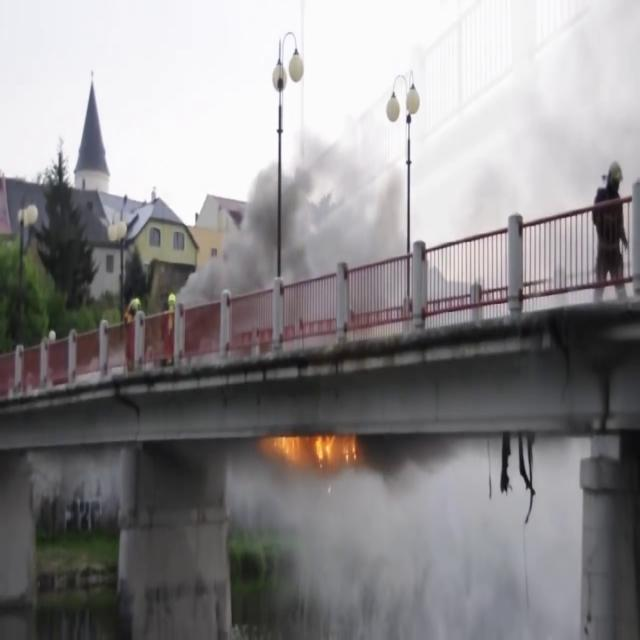Fire: (260, 420, 362, 472)
Smoke: (188, 45, 409, 334)
